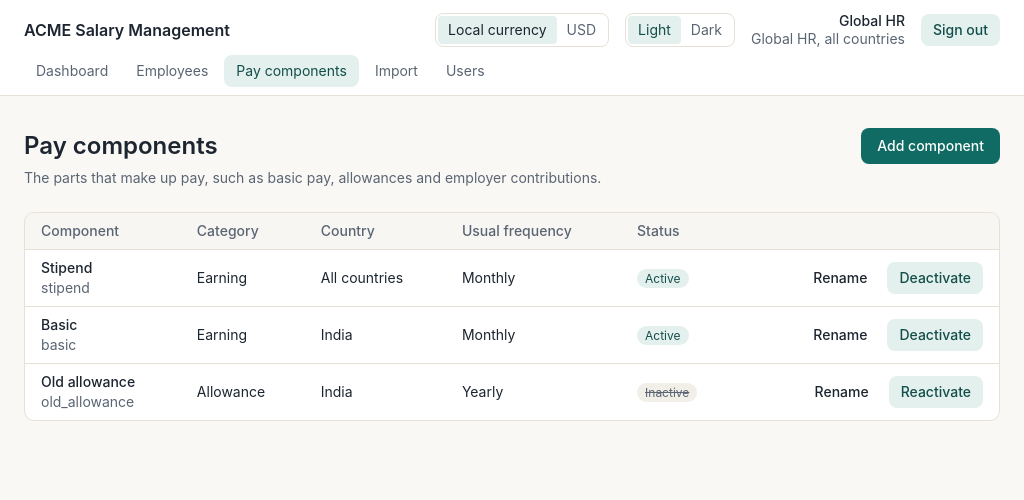
PayComponentsPage › deactivates a component only after confirming, and reactivates one
Click the 2nd button "Deactivate" at [935, 335], box [888, 319, 983, 351]
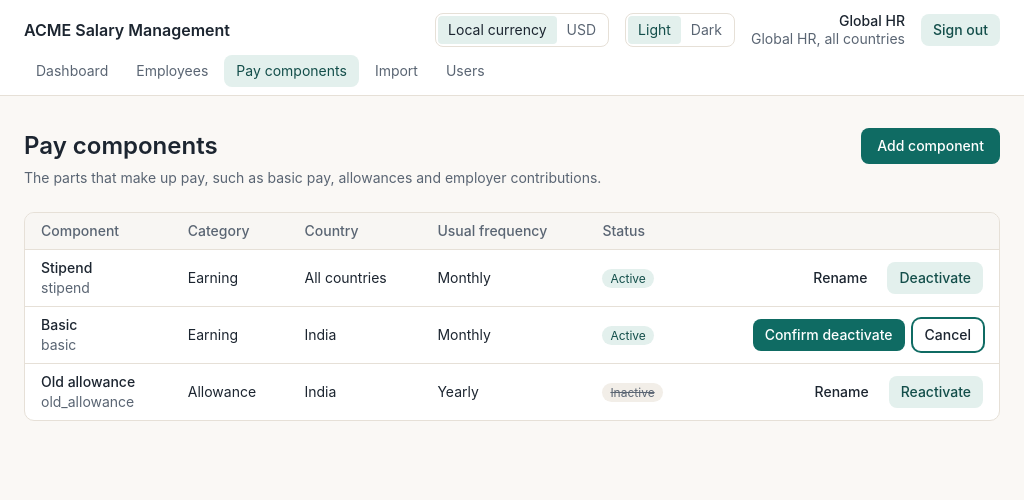
Click the button "Confirm deactivate" at [829, 335], box [753, 319, 904, 351]
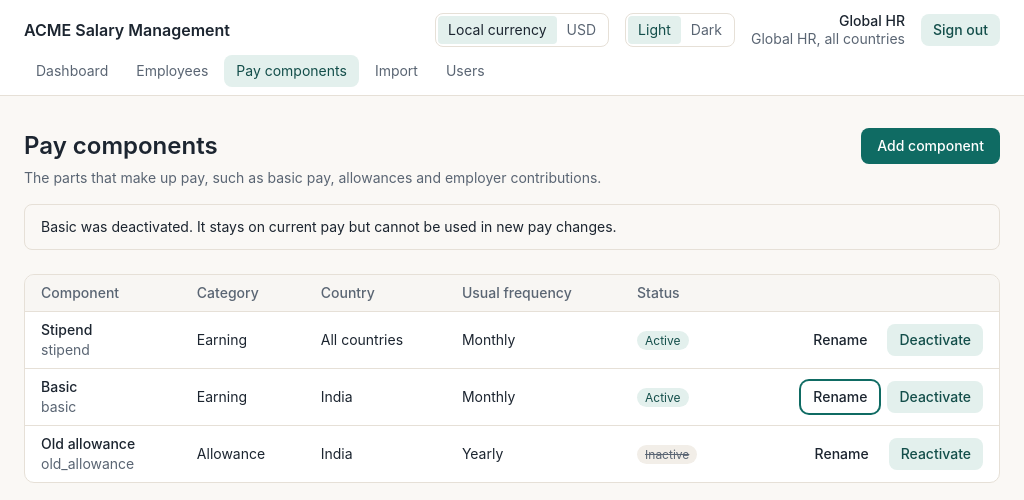
Result: the text "Basic was deactivated. It stays on current pay but cannot be used in new pay changes." is shown at [41, 218, 617, 235]
Click the button "Reactivate" at [936, 454], box [889, 438, 983, 470]
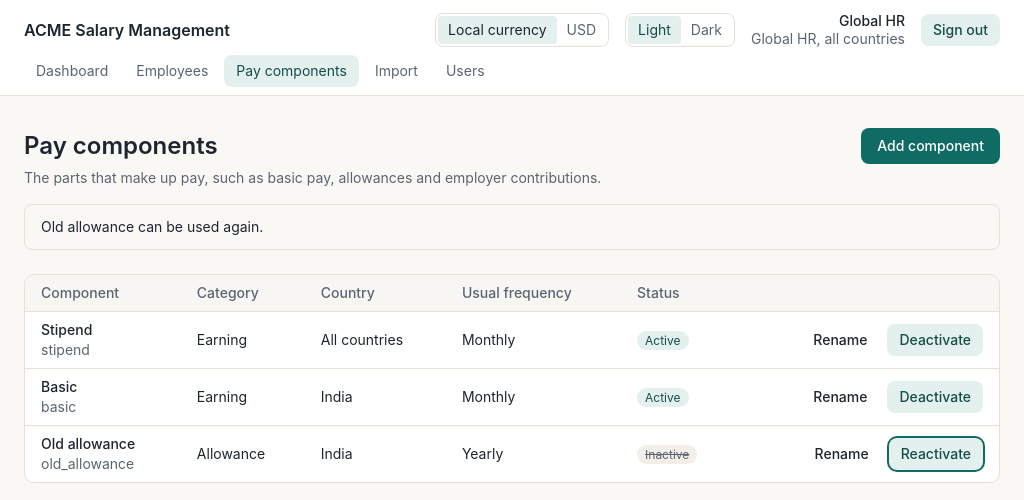
Result: the text "Old allowance can be used again." is shown at [24, 204, 1000, 250]
